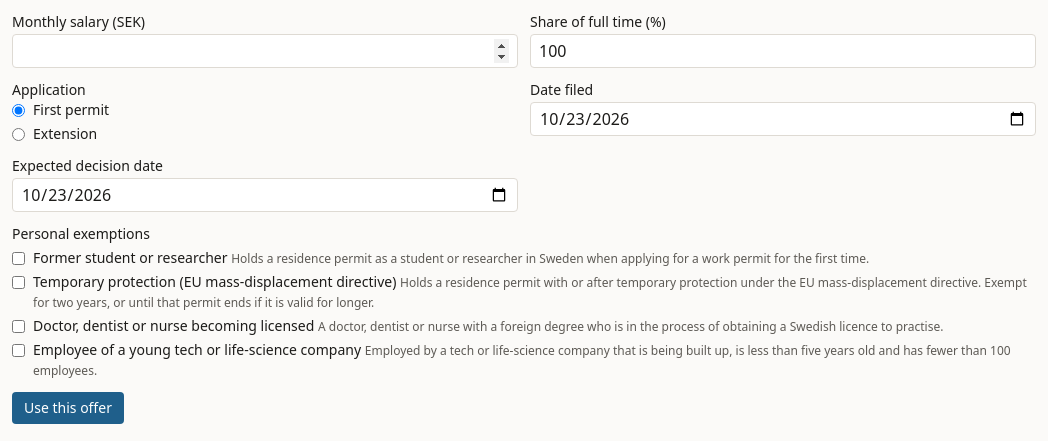
Test: OfferForm › asks for the current permit's date only for an extension
Expected: the field labelled "current permit granted" is not shown
Click the radio button labelled "Extension" at [18, 134], box [12,128,25,140]
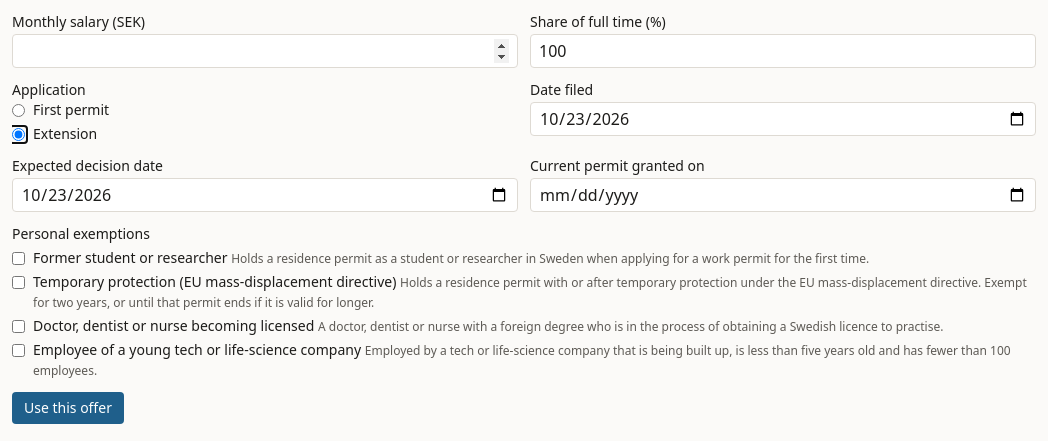
Result: the date field labelled "Current permit granted on" is shown at [530,178,1036,212]
